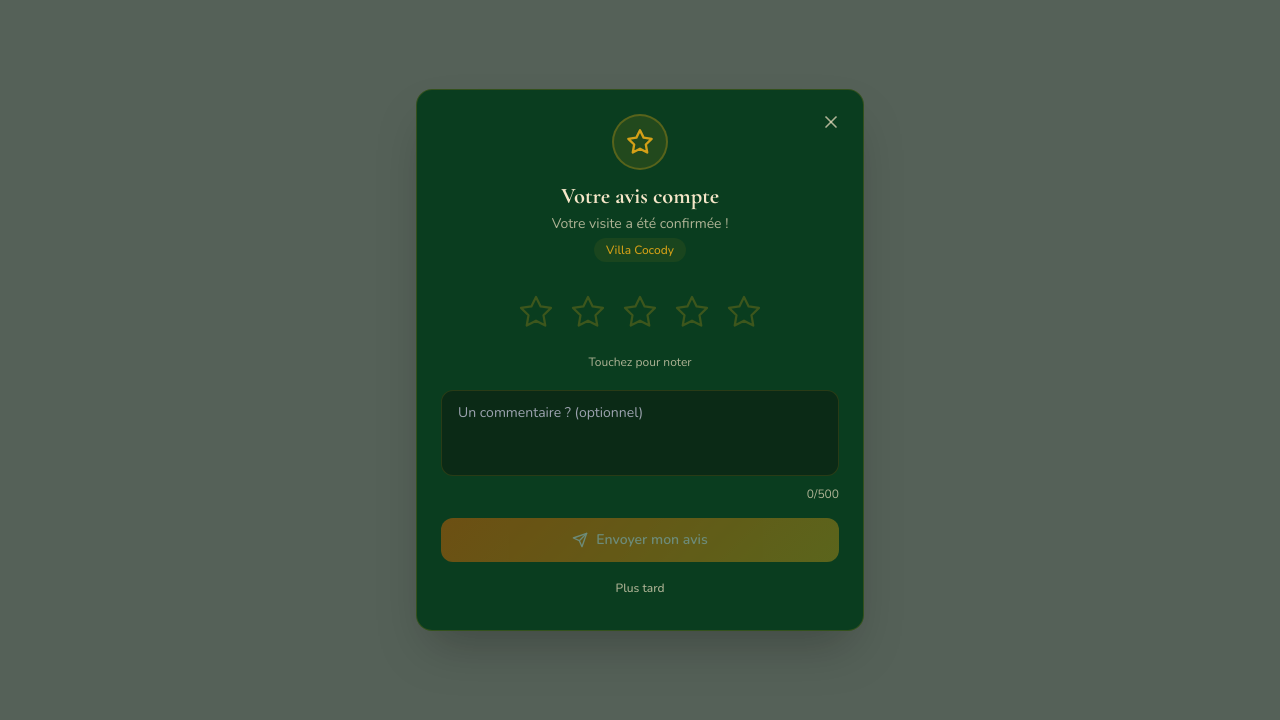
Test: SatisfactionModal › affiche la confirmation après soumission
This screenshot has width=1280, height=720.
Click the button named "étoile" at (744, 312), box 722,290 -> 766,334
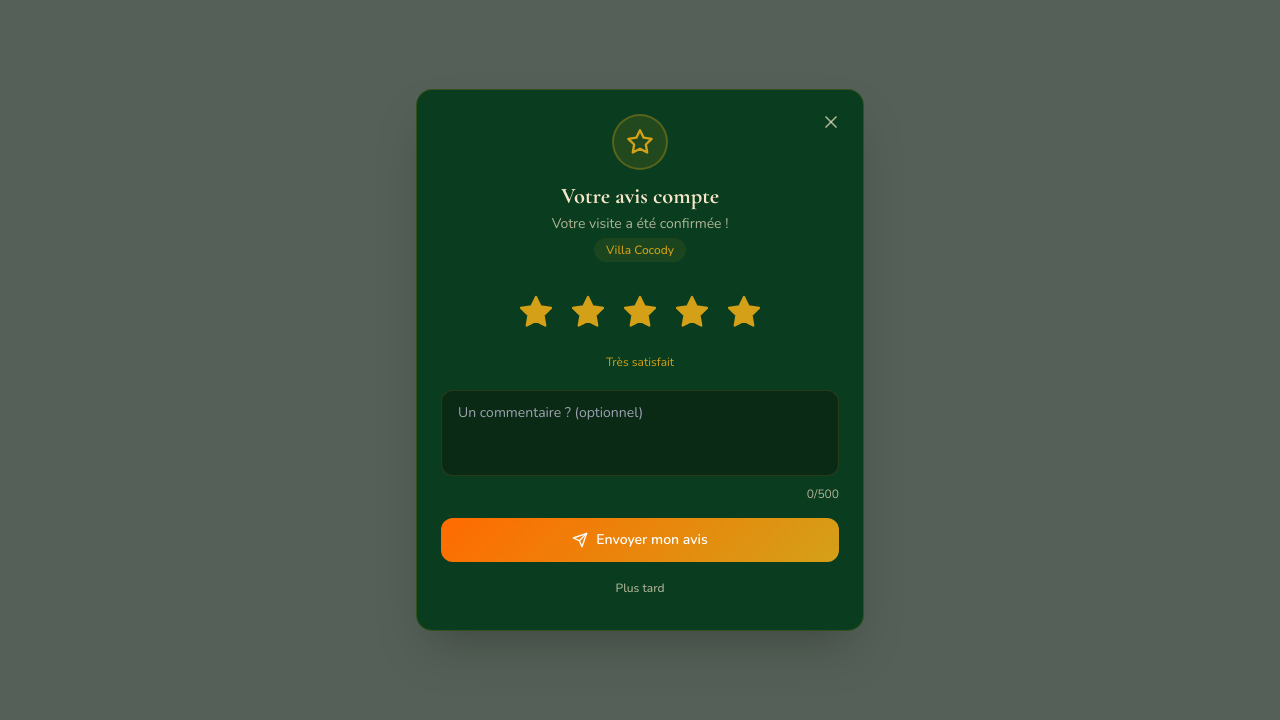
Click the button "Envoyer mon avis" at (640, 540), box 441,518 -> 839,562
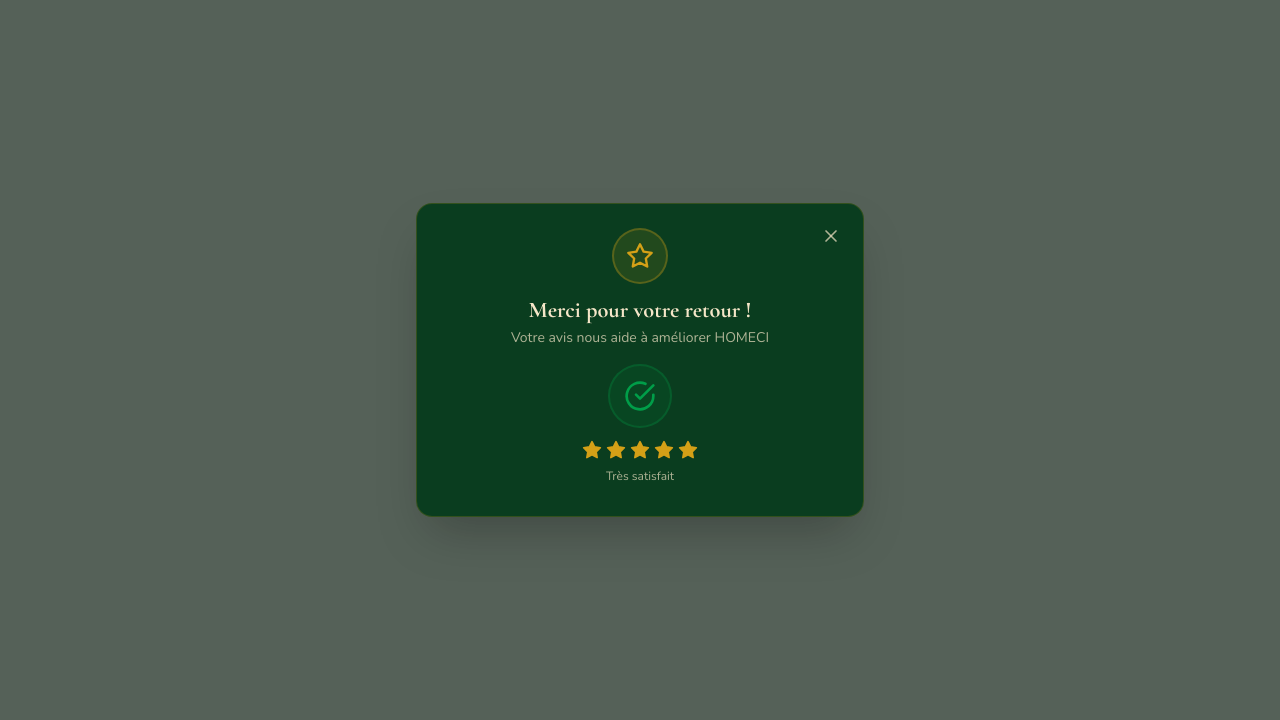
Result: the heading "Merci pour votre retour !" is shown at 528,296 -> 752,323
